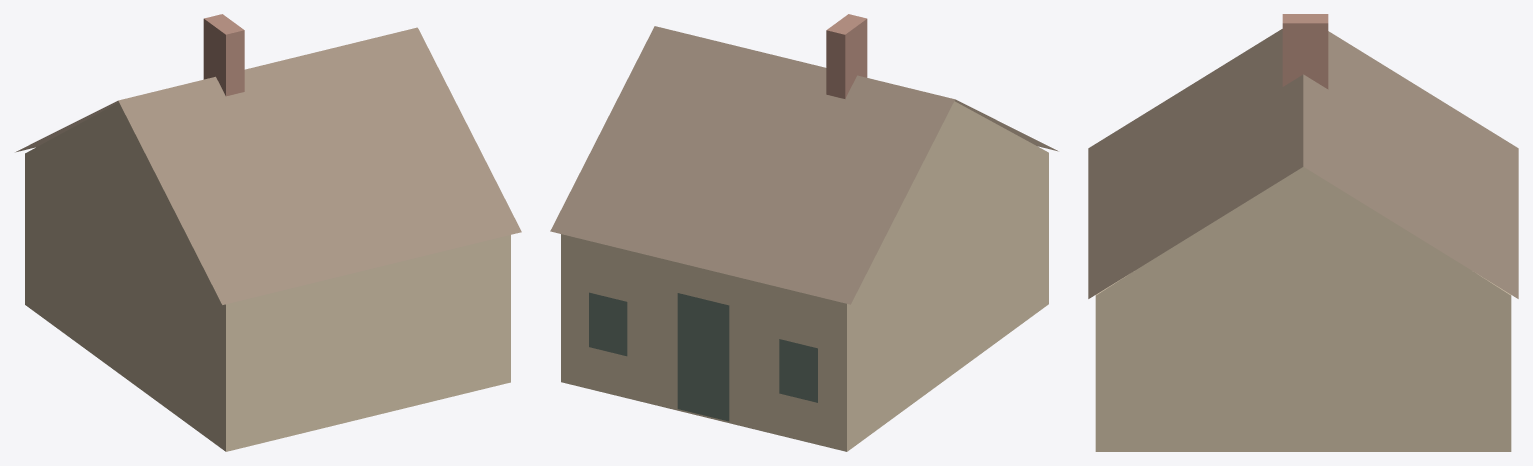
File: recon_1835_north_d3_024__recommended_1835.glb
3 views of the same model, side by side, from view 1: azimuth 30°, elevation 25°; view 2: azimuth 150°, elevation 25°; view 3: azimuth 270°, elevation 25° (orthographic). The views are drawn at different scales.
Visible parts, largest first — view 1: recon_1835_north_d3_024__recommended_1835; view 2: recon_1835_north_d3_024__recommended_1835; view 3: recon_1835_north_d3_024__recommended_1835.
Boxes of the visible parts, box(x1,y1,x2,y2) form: recon_1835_north_d3_024__recommended_1835: box(15, 14, 521, 451); recon_1835_north_d3_024__recommended_1835: box(550, 14, 1058, 451); recon_1835_north_d3_024__recommended_1835: box(1088, 14, 1518, 451).
Bounding box in the file's own units: 5.77 × 6.05 × 6.95.
